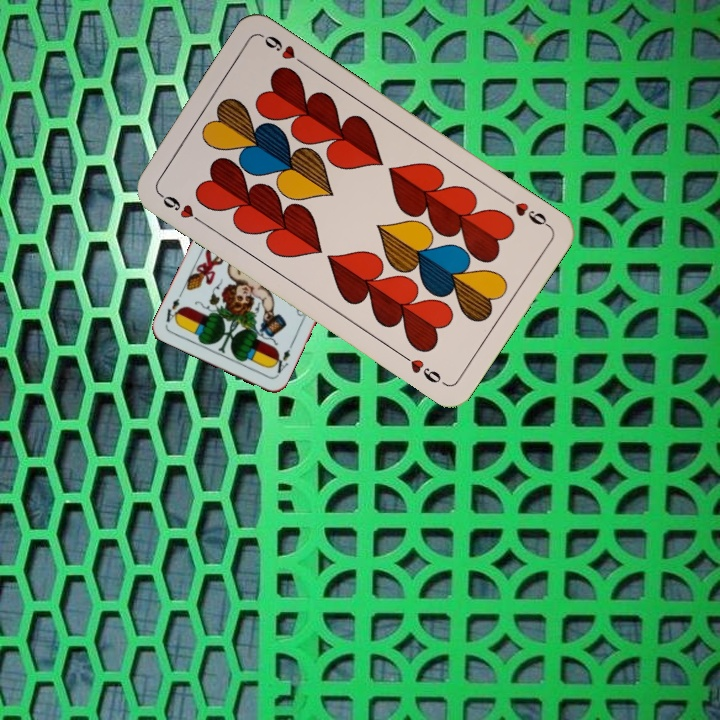EA: (268, 345, 293, 379)
H9: (154, 188, 207, 227), (500, 192, 553, 230)
